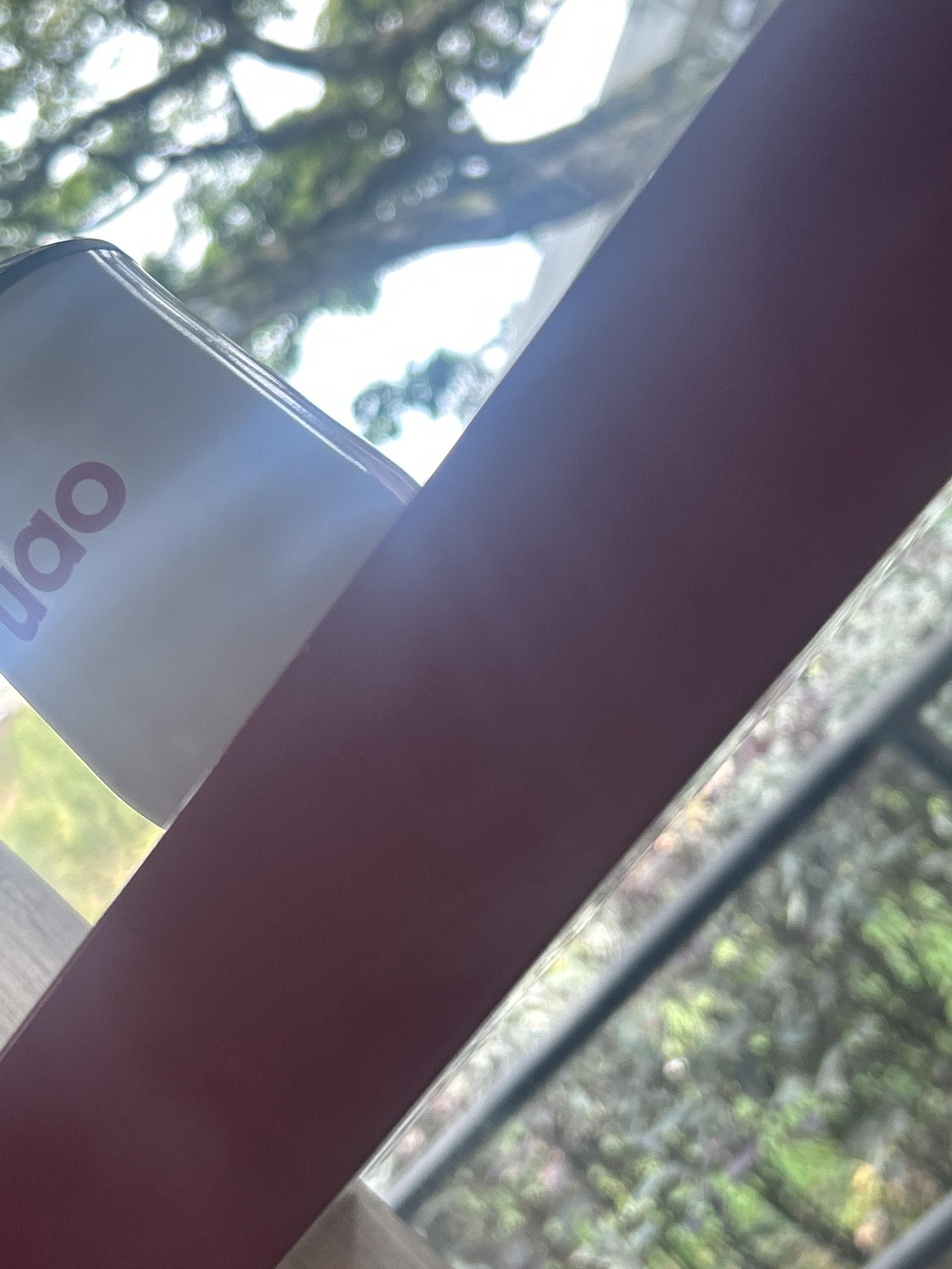vaso: (0, 240, 415, 828)
